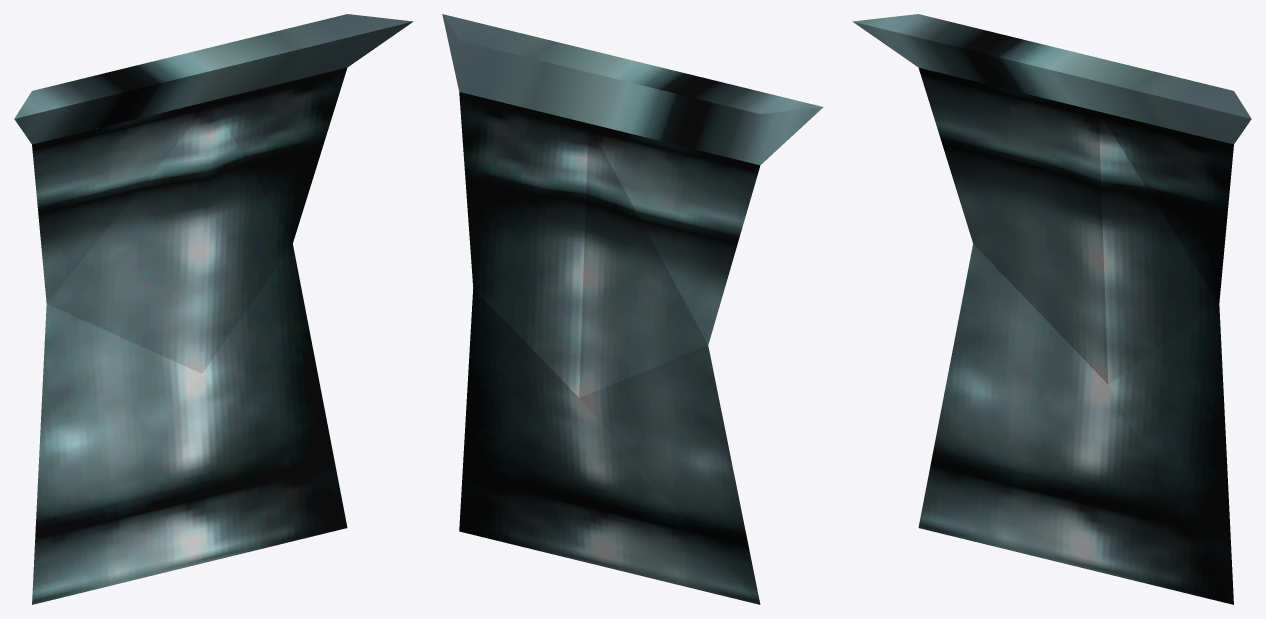
File: W_A1_x [Rohr]_739.glb
3 renders of one model, left to right at view 1: azimuth 30°, elevation 25°; view 2: azimuth 150°, elevation 25°; view 3: azimuth 330°, elevation 25°, orthographic. The views are drawn at different scales.
Visible parts, largest first — view 1: polySurfaceShape1201, polySurfaceShape1203; view 2: polySurfaceShape1201, polySurfaceShape1203; view 3: polySurfaceShape1201, polySurfaceShape1203.
Part boxes in pixels (bbox=[...]): polySurfaceShape1201: bbox=[32, 68, 347, 604]; polySurfaceShape1203: bbox=[14, 14, 413, 144]; polySurfaceShape1201: bbox=[459, 92, 760, 604]; polySurfaceShape1203: bbox=[442, 14, 823, 165]; polySurfaceShape1201: bbox=[918, 68, 1233, 604]; polySurfaceShape1203: bbox=[852, 14, 1251, 144].
Size of the model in its own units: 0.3166 by 0.3891 by 0.0607.
2 materials, 2 textured.
